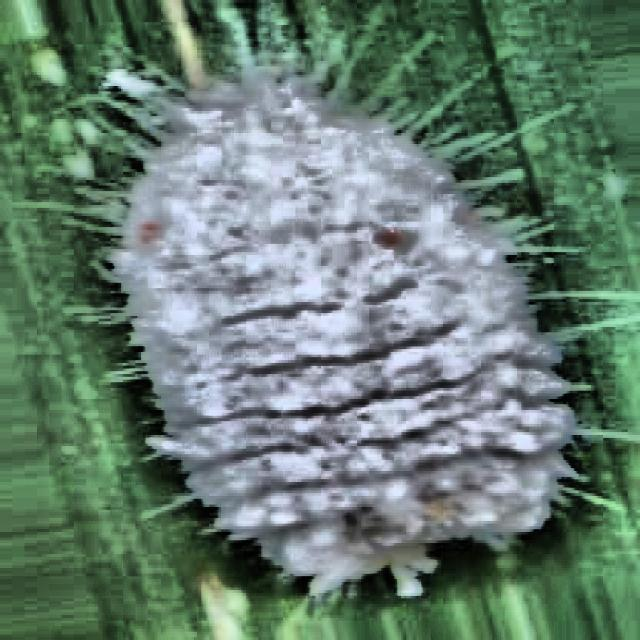Mealy-bug: (38, 13, 605, 637)
